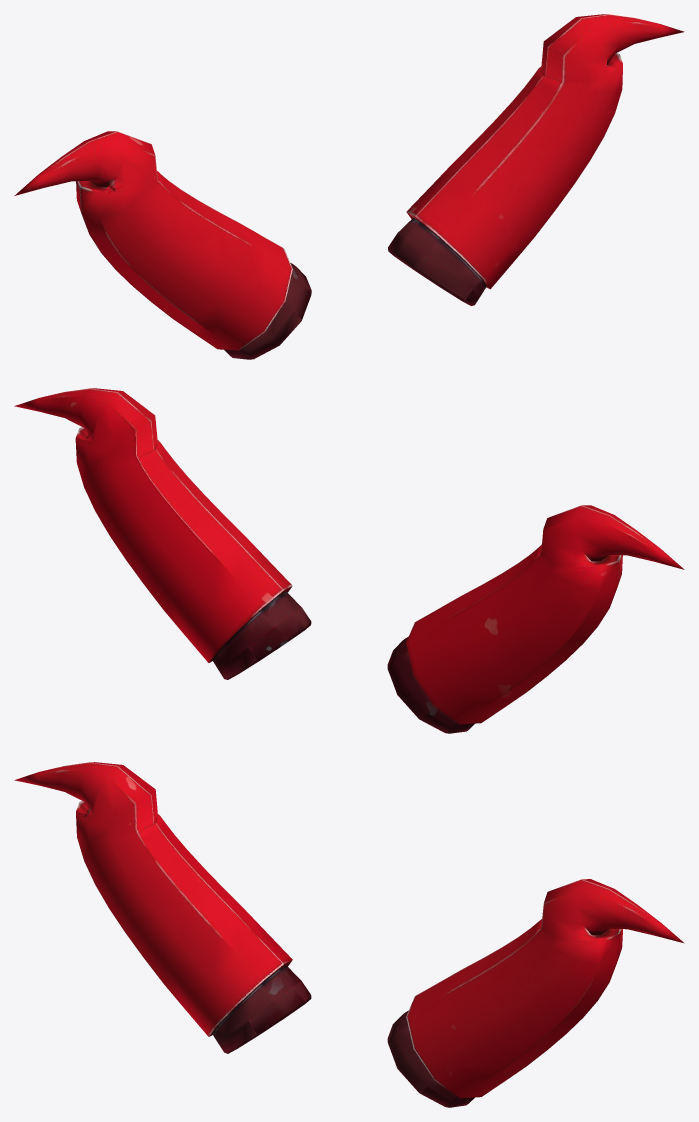
File: 23_004_big_red_horns.glb
The picture shows the model from 3 angles, top to bottom: view 1: azimuth 30°, elevation 25°; view 2: azimuth 150°, elevation 25°; view 3: azimuth 330°, elevation 25°; orthographic projection.
Parts seen in each view (by area): view 1: BigRedHorns; view 2: BigRedHorns; view 3: BigRedHorns.
Boxes of the visible parts, box(x1,y1,x2,y2) form: BigRedHorns: box(14, 14, 684, 359); BigRedHorns: box(14, 388, 684, 733); BigRedHorns: box(14, 762, 684, 1107).
Bounding box in the file's own units: 0.7758 × 0.2808 × 0.098.
1 material, 1 textured.
